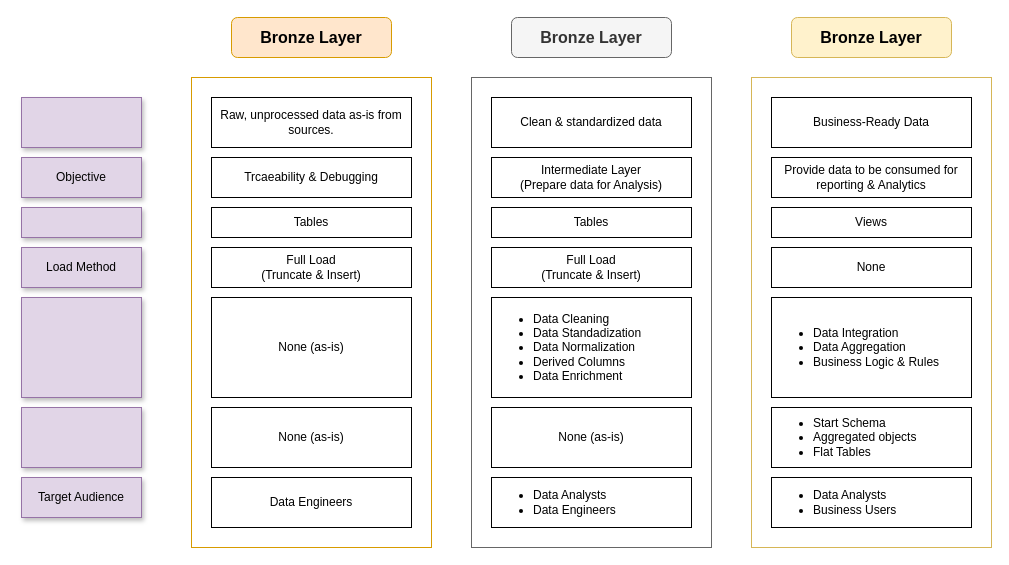
Image size: 1009x565. Some labels were removed from this diagram. Here are the shapes that lost their labels. From the top down, the centre of each, then its label:
At [82,223]: "Objective Type".
At [82,348]: "Data Transformation".
At [82,438]: "Data Modelling".
